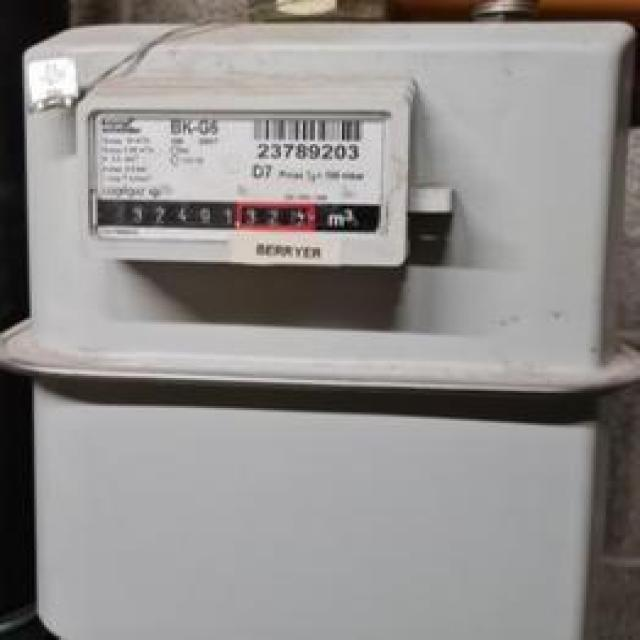gaz_meter: (86, 110, 384, 234)
indication: (113, 201, 319, 231)
